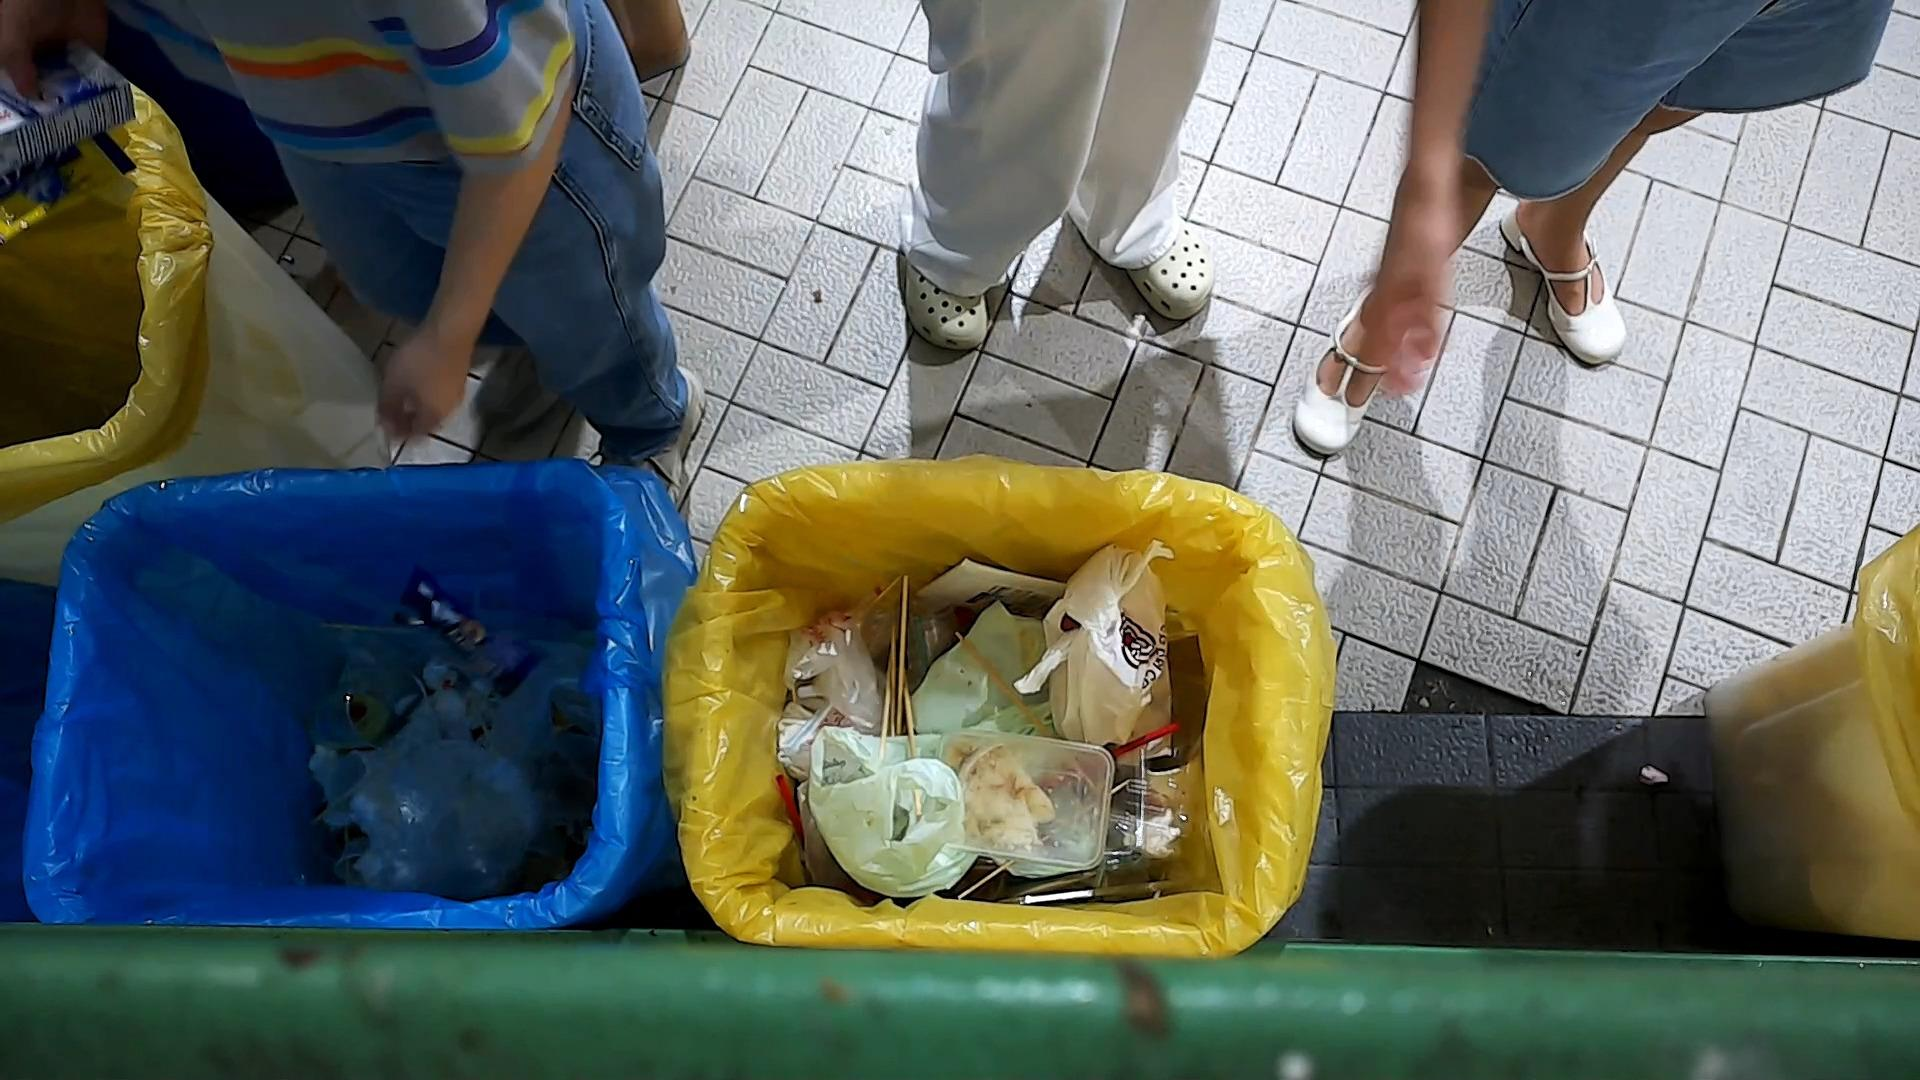dirty food container: (935, 727, 1118, 874)
filled plastic bag: (1011, 538, 1182, 760), (802, 707, 989, 903)
milk carton: (0, 37, 142, 182)
plastic bag: (344, 654, 564, 906), (775, 597, 885, 748)
plastic cup: (302, 654, 431, 757)
snack packaging: (0, 83, 142, 258), (389, 558, 554, 700)
sticks: (956, 777, 1134, 901), (952, 630, 1055, 740), (305, 753, 398, 831), (903, 667, 923, 819), (878, 621, 897, 765), (465, 692, 500, 762), (895, 574, 910, 736)
straw: (1109, 717, 1185, 760), (773, 773, 807, 855)
